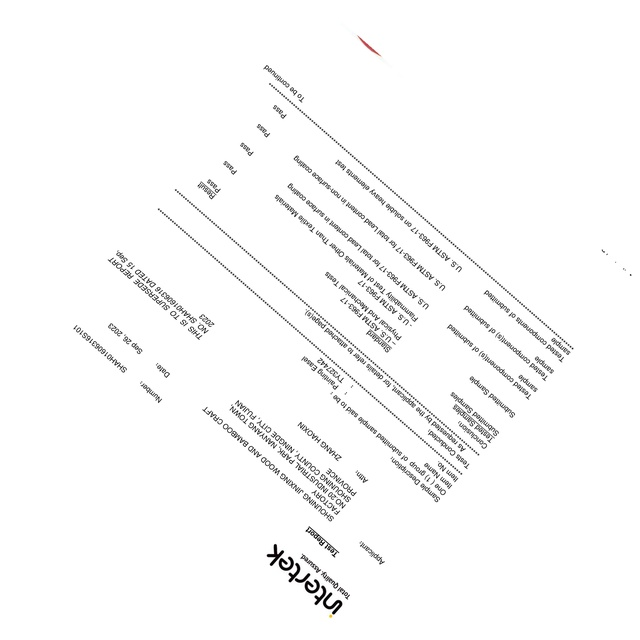intertek: (262, 539, 347, 621)
